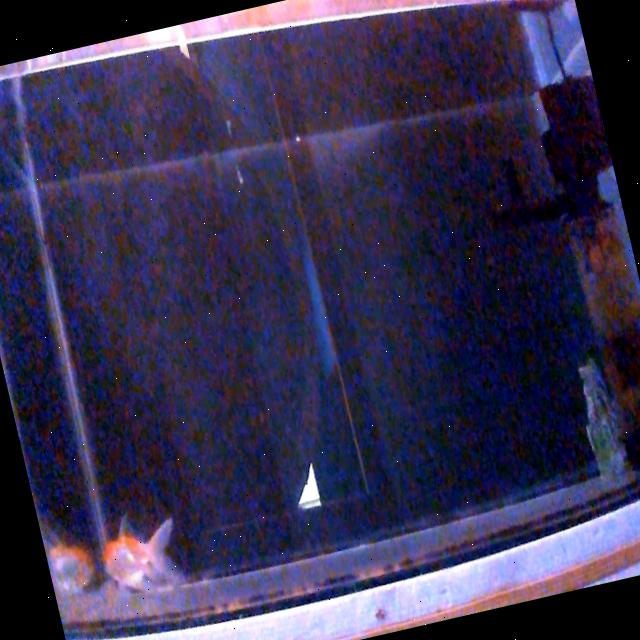fish: (95, 505, 186, 599), (46, 534, 100, 598)
